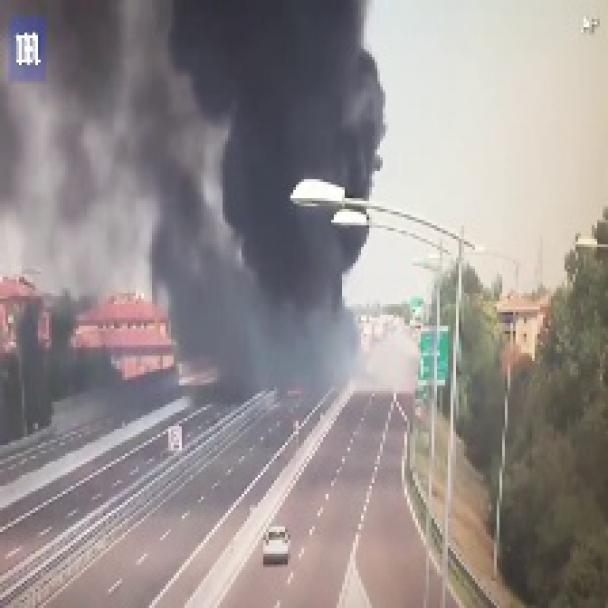smoke: (0, 0, 413, 468)
